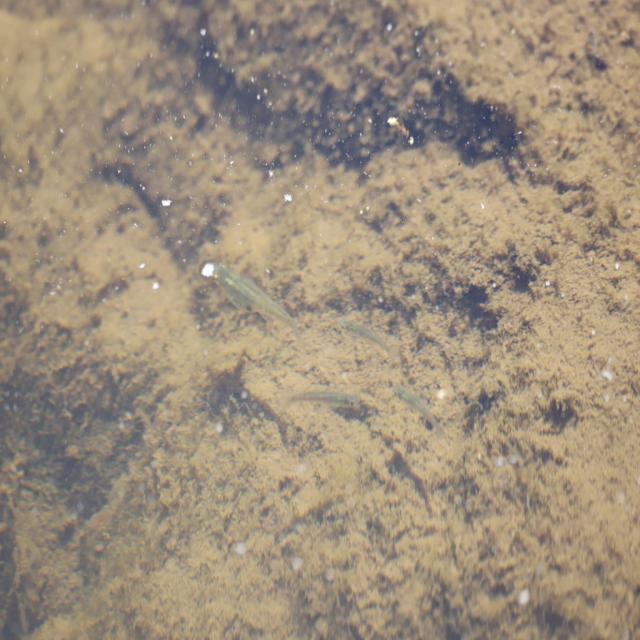Sivrisinek Baligi: (199, 258, 299, 343), (392, 375, 446, 440), (275, 386, 363, 413), (342, 316, 390, 355)
